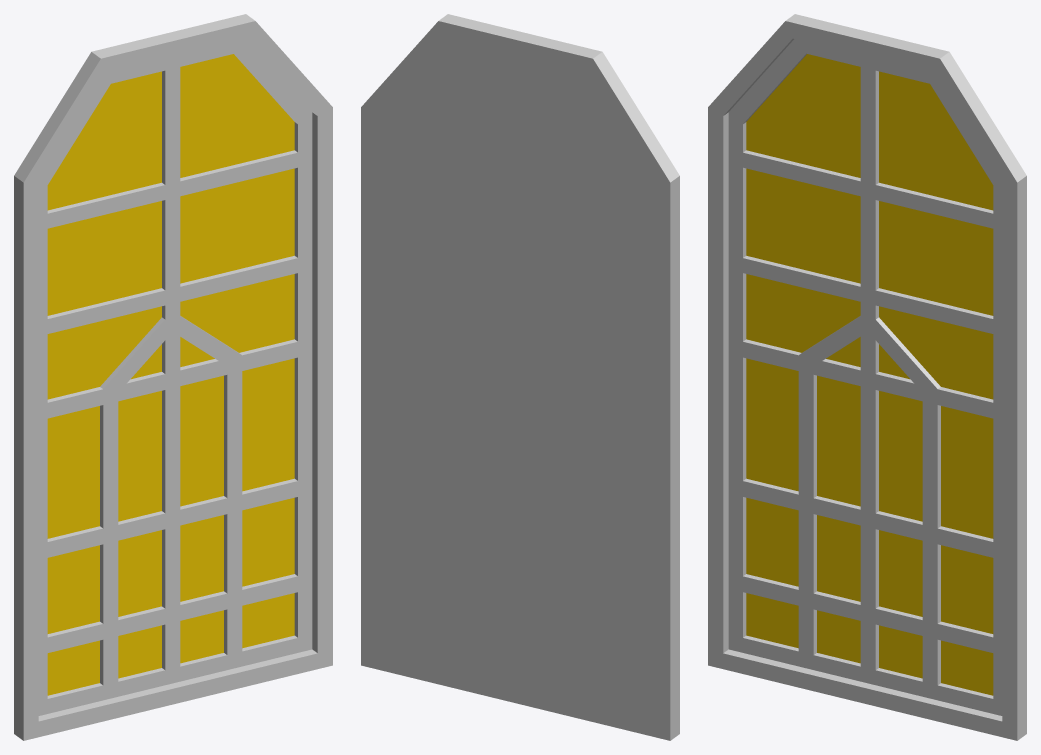
The model's file is Prop_Gothic_Decoration_Window_05.FBX.
3 renders of one model, left to right at view 1: azimuth 30°, elevation 25°; view 2: azimuth 150°, elevation 25°; view 3: azimuth 330°, elevation 25°, orthographic.
Parts seen in each view (by area): view 1: Prop_Gothic_Decoration_Window_05; view 2: Prop_Gothic_Decoration_Window_05; view 3: Prop_Gothic_Decoration_Window_05.
Part boxes in pixels (<box>): Prop_Gothic_Decoration_Window_05: <box>14,14,332,740</box>; Prop_Gothic_Decoration_Window_05: <box>361,14,679,740</box>; Prop_Gothic_Decoration_Window_05: <box>708,14,1026,740</box>.
Bounding box in the file's own units: 1670 × 3424 × 89.34.
